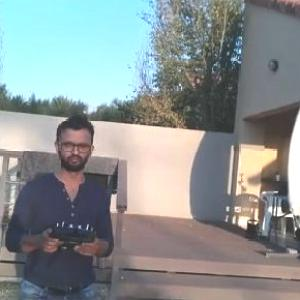follow: (1, 110, 119, 299)
